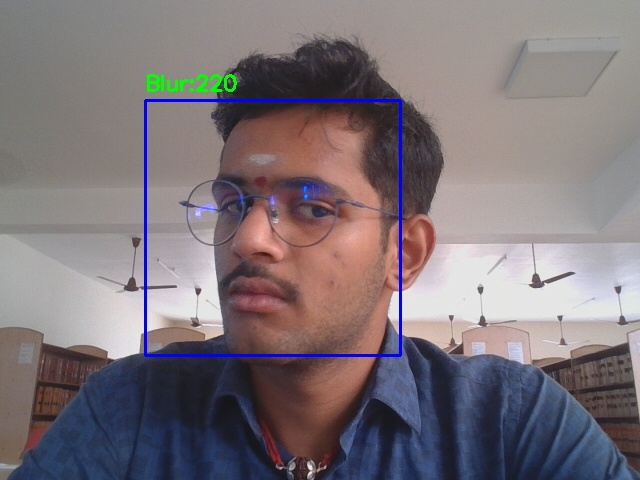real: (145, 100, 400, 355)
